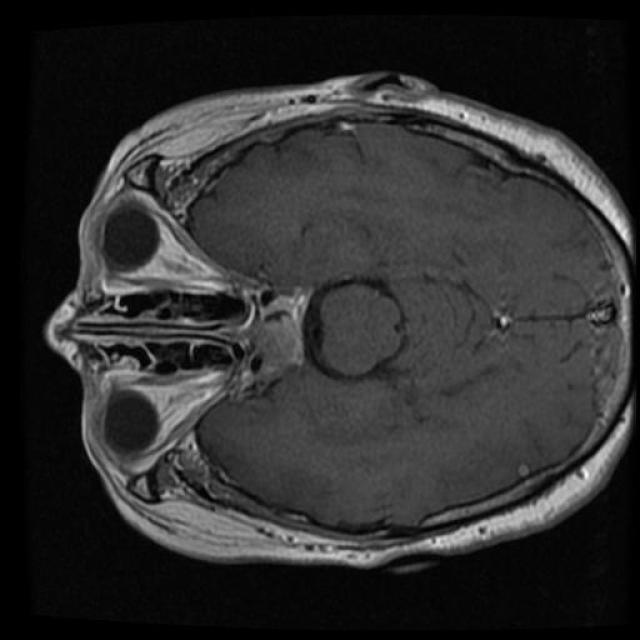Pituitary: (215, 275, 311, 397)
